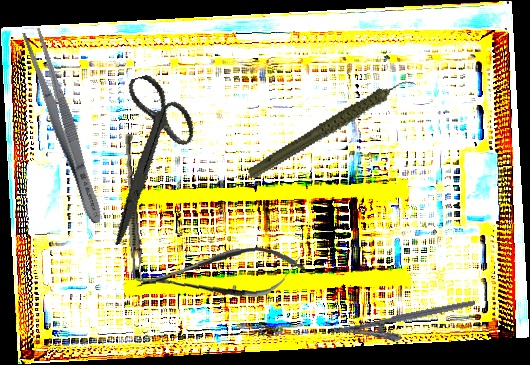Dressing Forceps: (18, 26, 110, 227)
Handpiece: (235, 75, 429, 182)
Iris Scissors: (71, 66, 220, 246)
Micro Scissor: (133, 242, 307, 306)
Needle Holder: (329, 299, 480, 354)
Tissue Forceps: (119, 133, 146, 280)
